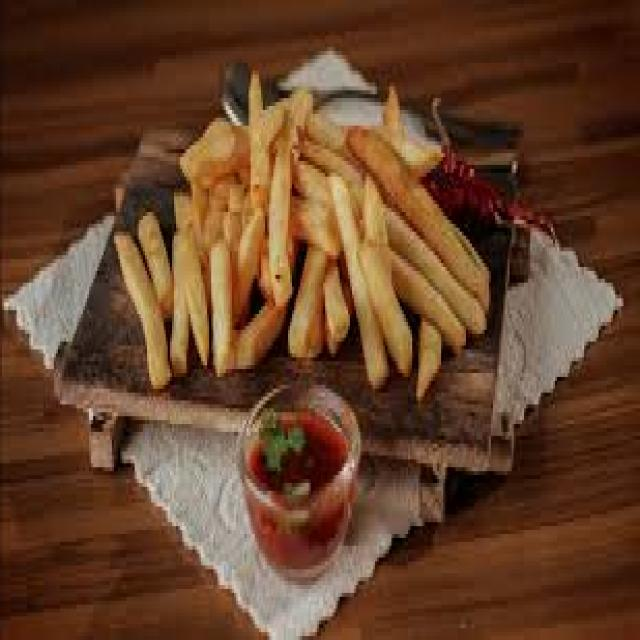fries: (113, 60, 496, 398)
